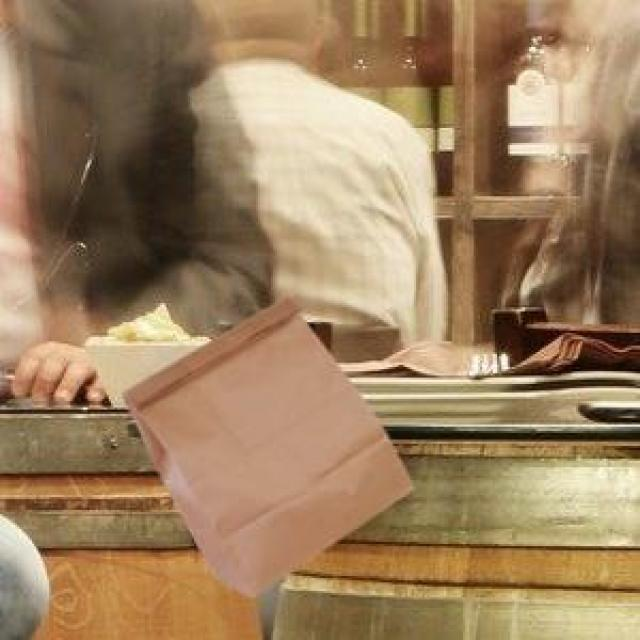paper: (120, 292, 410, 593)
